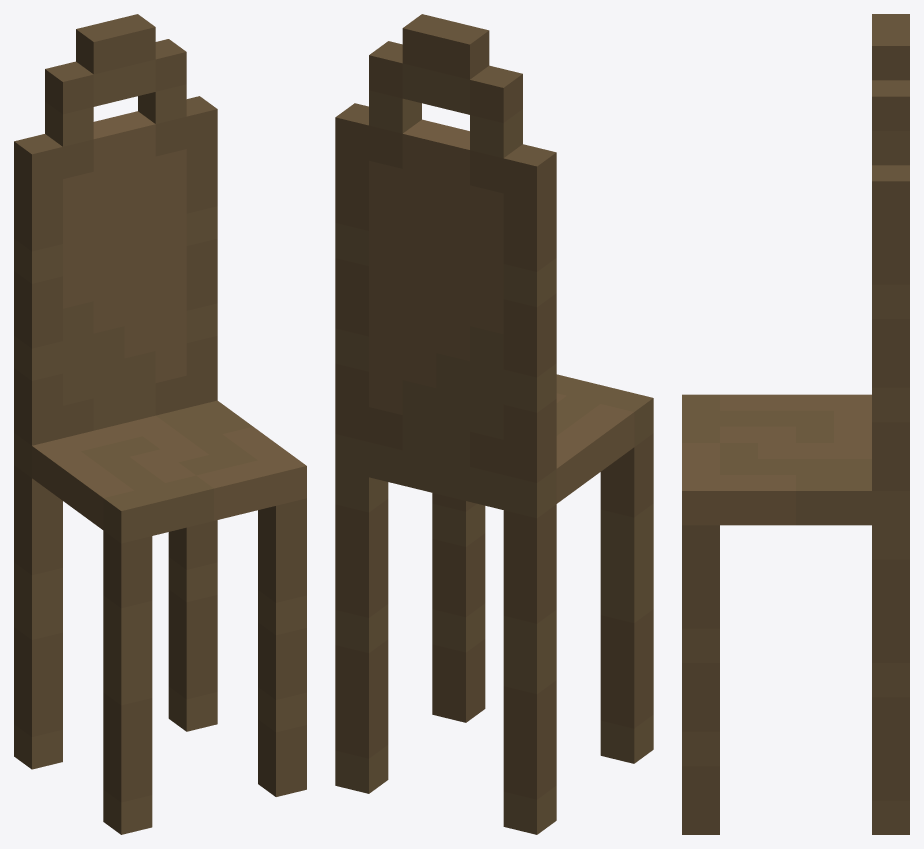
The model's file is Decor-84.obj.
3 views of the same model, side by side, from view 1: azimuth 30°, elevation 25°; view 2: azimuth 150°, elevation 25°; view 3: azimuth 270°, elevation 25° (orthographic). The views are drawn at different scales.
Size of the model in its own units: 0.6 by 2.2 by 0.6.
Materials: 1 (1 with a texture image).
